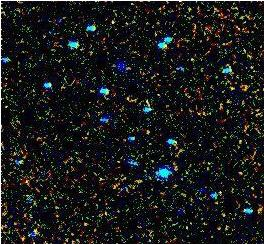star: (185, 178, 215, 208)
